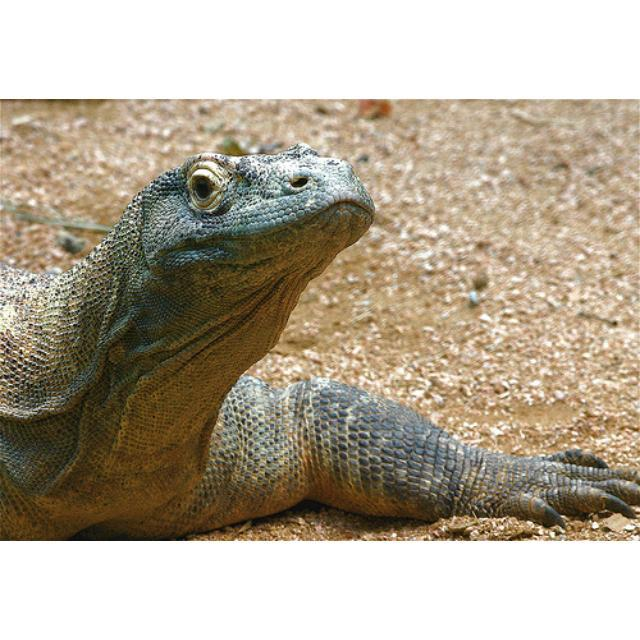KomodoDragon: (0, 140, 636, 538)
